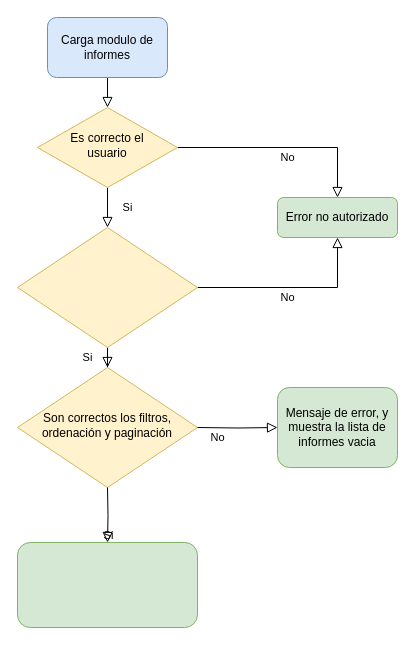
Image size: 415x645. Some labels were removed from this diagram. Here are the shapes that lost their labels. From the top down, the centre of each, then its label:
At point 107,287: "El usuario puede visualizar el modulo de informes".
At point 107,585: "Muestra los informes disponibles, filtrados, ordenados y paginados".
